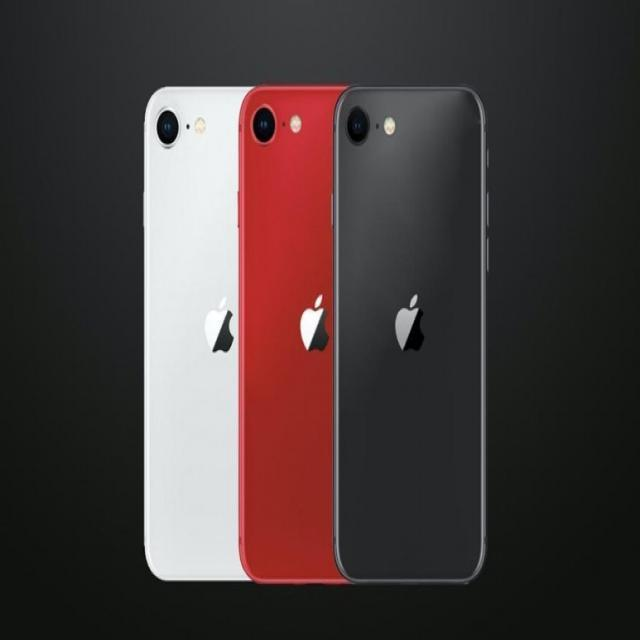phone: (336, 88, 486, 580)
